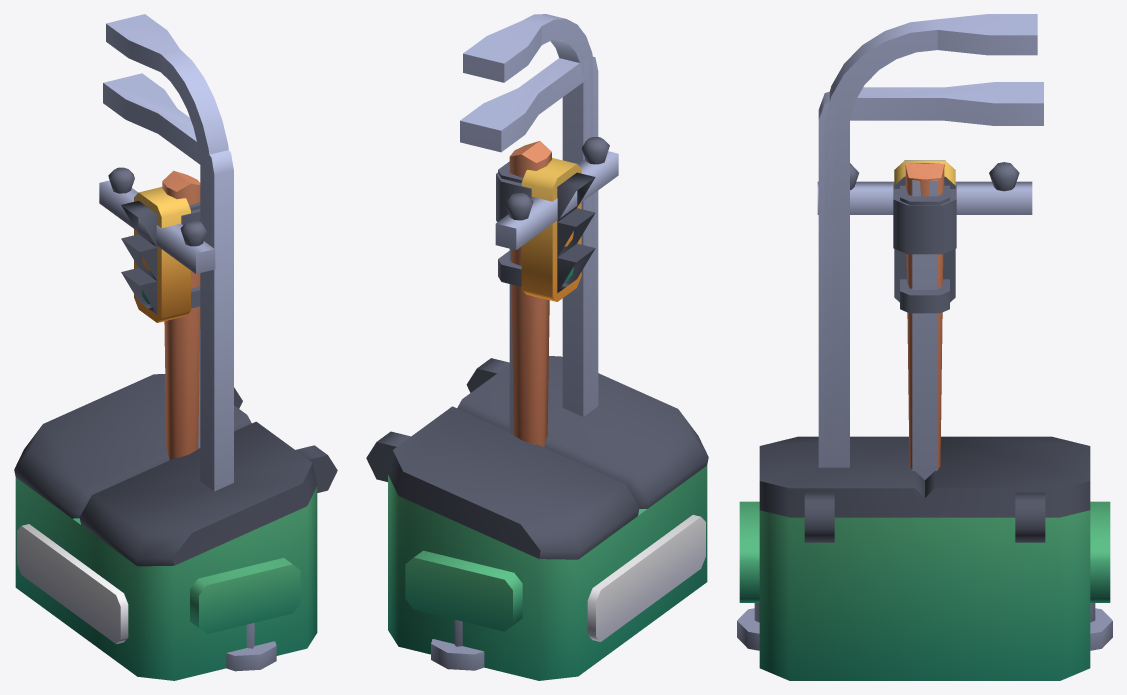
The model's file is kenney-city-kit-roads.glb.
3 renders of one model, left to right at view 1: azimuth 30°, elevation 25°; view 2: azimuth 150°, elevation 25°; view 3: azimuth 270°, elevation 25°, orthographic. The views are drawn at different scales.
Visible parts, largest first — view 1: dumpster, light-square, electricity-pole-single, light-curved, traffic-light, construction-fence; view 2: dumpster, light-curved, electricity-pole-single, traffic-light, light-square, construction-fence; view 3: dumpster, light-curved, light-square, electricity-pole-single, traffic-light, construction-fence.
Boxes of the visible parts, x1=… form: dumpster: x1=14, y1=374, x2=337, y2=680; light-square: x1=103, y1=73, x2=233, y2=491; electricity-pole-single: x1=99, y1=167, x2=215, y2=459; light-curved: x1=106, y1=14, x2=228, y2=489; traffic-light: x1=121, y1=187, x2=200, y2=448; construction-fence: x1=226, y1=623, x2=276, y2=671; dumpster: x1=366, y1=356, x2=708, y2=680; light-curved: x1=463, y1=14, x2=595, y2=416; electricity-pole-single: x1=495, y1=137, x2=618, y2=446; traffic-light: x1=498, y1=158, x2=595, y2=434; light-square: x1=460, y1=56, x2=598, y2=414; construction-fence: x1=431, y1=619, x2=484, y2=670; dumpster: x1=739, y1=436, x2=1110, y2=680; light-curved: x1=824, y1=14, x2=1037, y2=467; light-square: x1=818, y1=82, x2=1043, y2=467; electricity-pole-single: x1=817, y1=162, x2=1032, y2=469; traffic-light: x1=894, y1=160, x2=955, y2=479; construction-fence: x1=737, y1=603, x2=1112, y2=650.
Bounding box in the file's own units: 1.93 × 4.72 × 2.63.
Materials: 1 (1 with a texture image).
